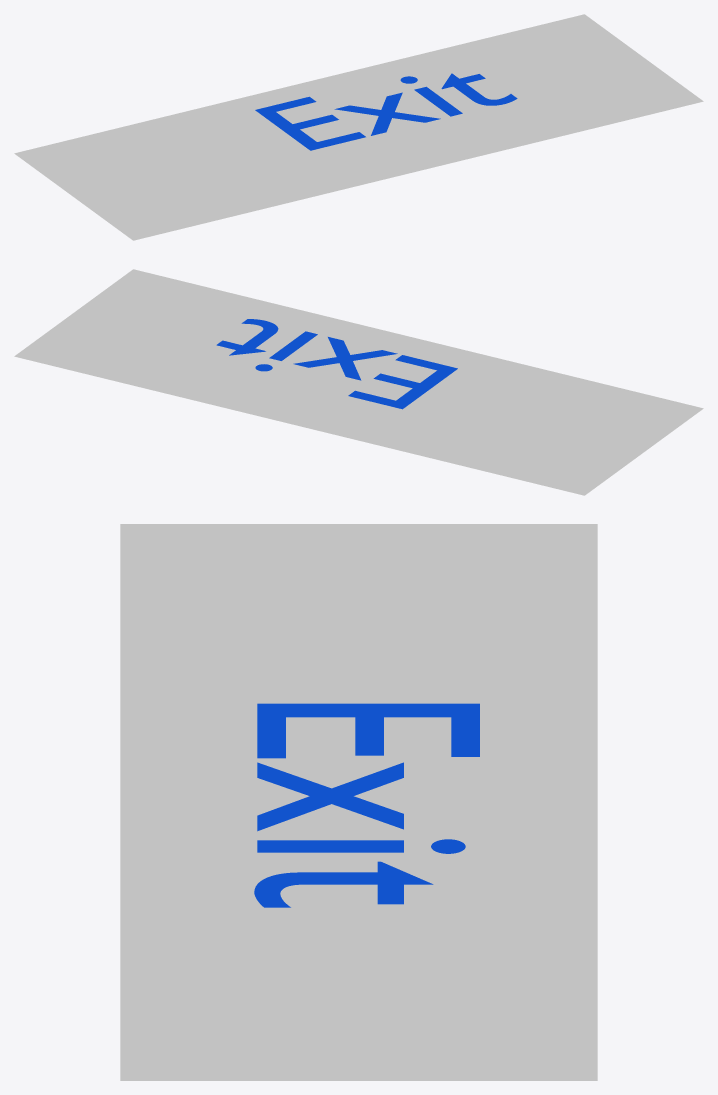
File: LevelTransition.glb
3 renders of one model, top to bottom at view 1: azimuth 30°, elevation 25°; view 2: azimuth 150°, elevation 25°; view 3: azimuth 270°, elevation 25°, orthographic. The views are drawn at different scales.
Visible parts, largest first — view 1: Plane.004, Text; view 2: Plane.004, Text; view 3: Plane.004, Text.
Boxes of the visible parts, x1=… form: Plane.004: x1=14, y1=14, x2=703, y2=240; Text: x1=255, y1=73, x2=517, y2=150; Plane.004: x1=14, y1=269, x2=703, y2=495; Text: x1=216, y1=319, x2=457, y2=409; Plane.004: x1=120, y1=524, x2=597, y2=1080; Text: x1=254, y1=703, x2=479, y2=907.
Size of what is drawn, in the model's own units: 12.26 by 0.2741 by 4.44.
